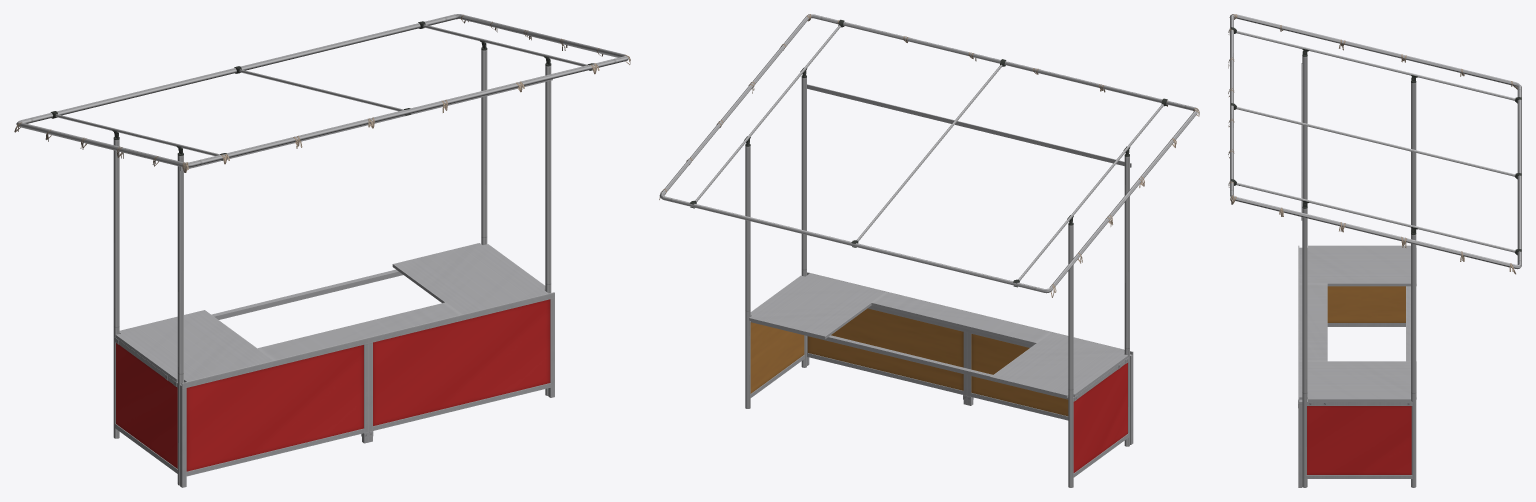
File: jsf_4P_s03_c06_t03.fbx
The picture shows the model from 3 angles, left to right: view 1: azimuth 30°, elevation 25°; view 2: azimuth 150°, elevation 25°; view 3: azimuth 270°, elevation 25°; orthographic projection. The views are drawn at different scales.
Visible parts, largest first — view 1: Base_s03_c06, Table_4P_s03_t03, Pillar4_s03, Rope_4P_s03; view 2: Base_s03_c06, Pillar4_s03, Table_4P_s03_t03; view 3: Pillar4_s03, Base_s03_c06, Table_4P_s03_t03, Rope_4P_s03.
Part boxes in pixels (x1,y1,x2,y2): Base_s03_c06: (114, 292, 554, 487); Table_4P_s03_t03: (115, 243, 548, 386); Pillar4_s03: (16, 14, 628, 485); Rope_4P_s03: (14, 14, 630, 172); Base_s03_c06: (750, 272, 1133, 477); Pillar4_s03: (659, 14, 1198, 487); Table_4P_s03_t03: (749, 273, 1128, 400); Pillar4_s03: (1230, 14, 1521, 487); Base_s03_c06: (1298, 245, 1412, 487); Table_4P_s03_t03: (1299, 245, 1416, 405); Rope_4P_s03: (1228, 14, 1517, 274).
Bounding box in the file's own units: 316 × 243 × 211.
